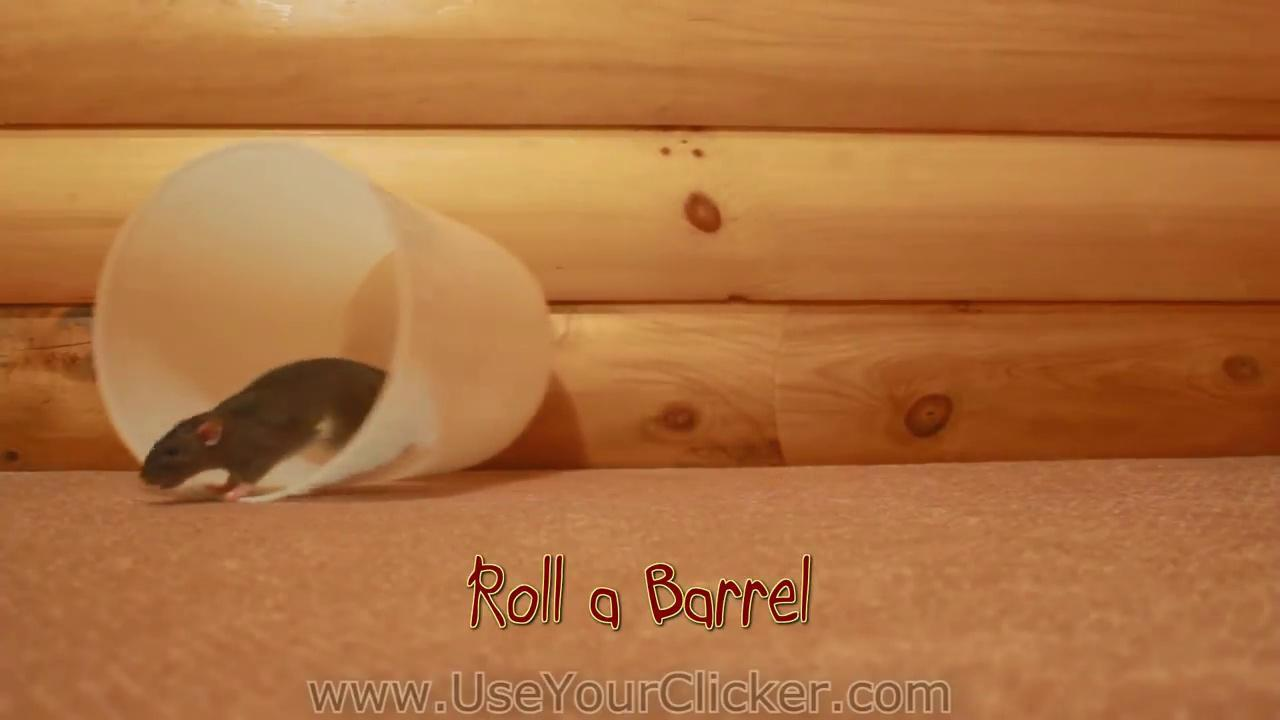rat: (140, 359, 386, 501)
